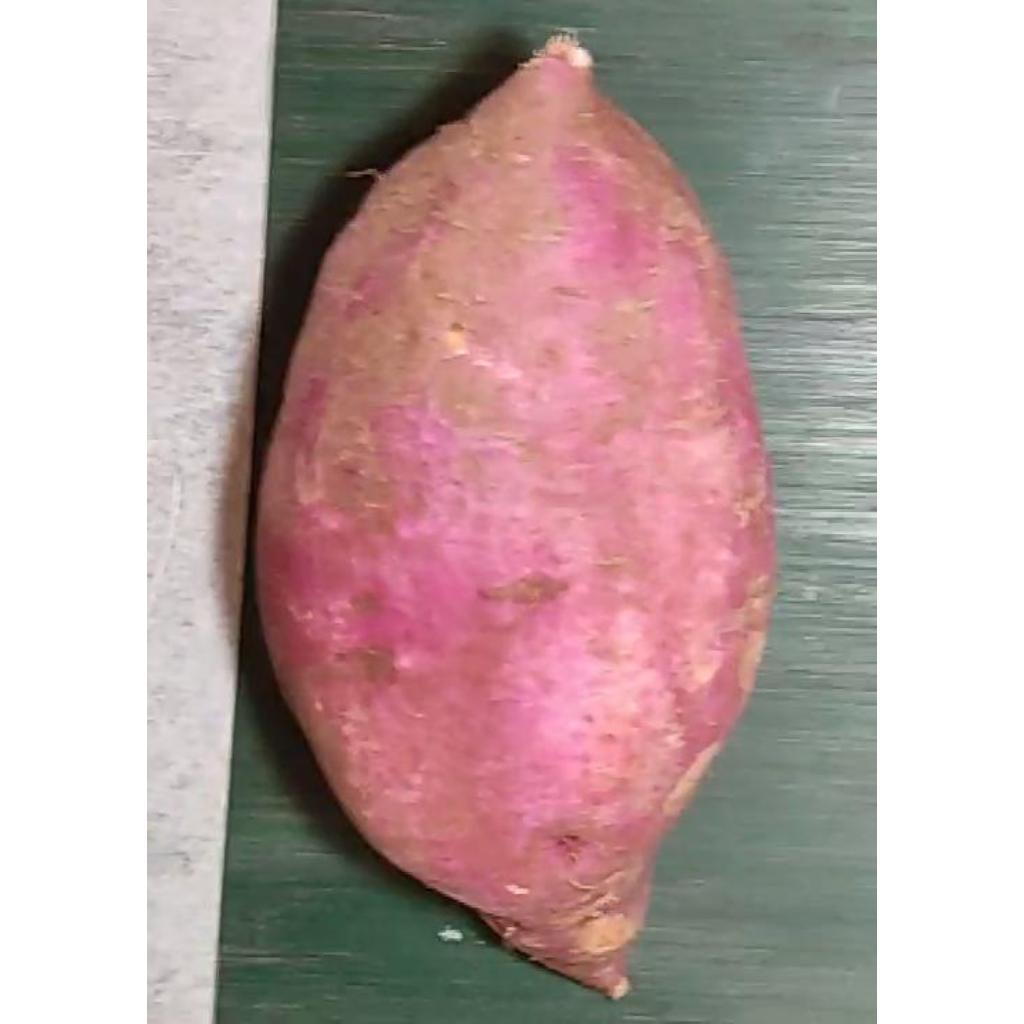Sweet Potato: (255, 39, 777, 999)
